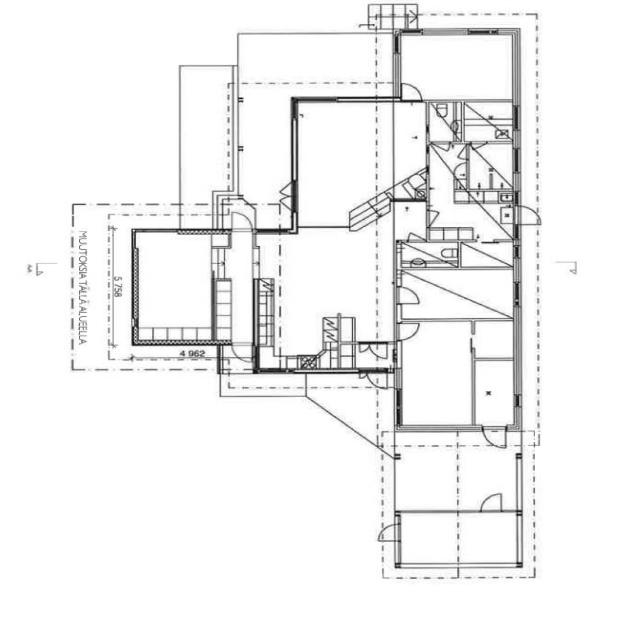door: (484, 425, 506, 451), (514, 206, 544, 224), (396, 323, 422, 341), (367, 368, 388, 390), (396, 287, 422, 304), (232, 340, 252, 362), (232, 213, 252, 234), (375, 525, 400, 541), (482, 494, 502, 514), (426, 210, 448, 227), (274, 196, 298, 211), (402, 84, 422, 102), (274, 182, 298, 196), (432, 141, 450, 159), (408, 225, 426, 242), (449, 145, 469, 159), (370, 342, 387, 358), (471, 141, 487, 157), (359, 342, 370, 352), (360, 368, 367, 379)
